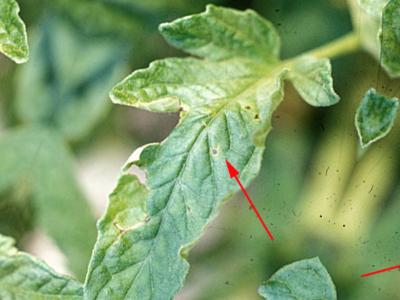Tomato leaf bacterial spot: (27, 0, 320, 300)
